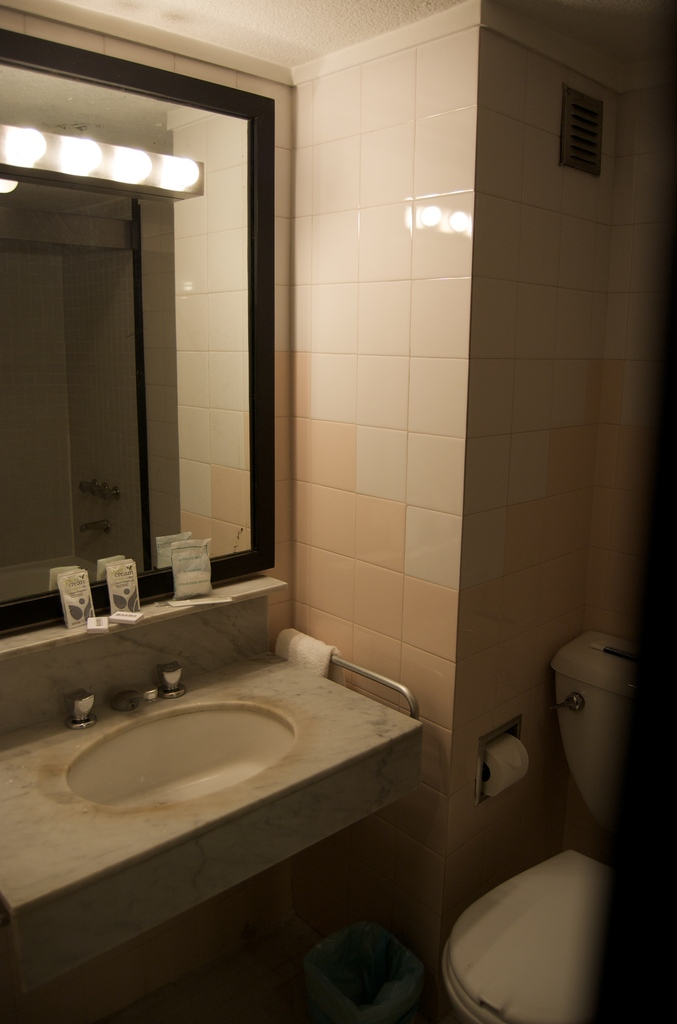tap: (108, 685, 153, 707)
